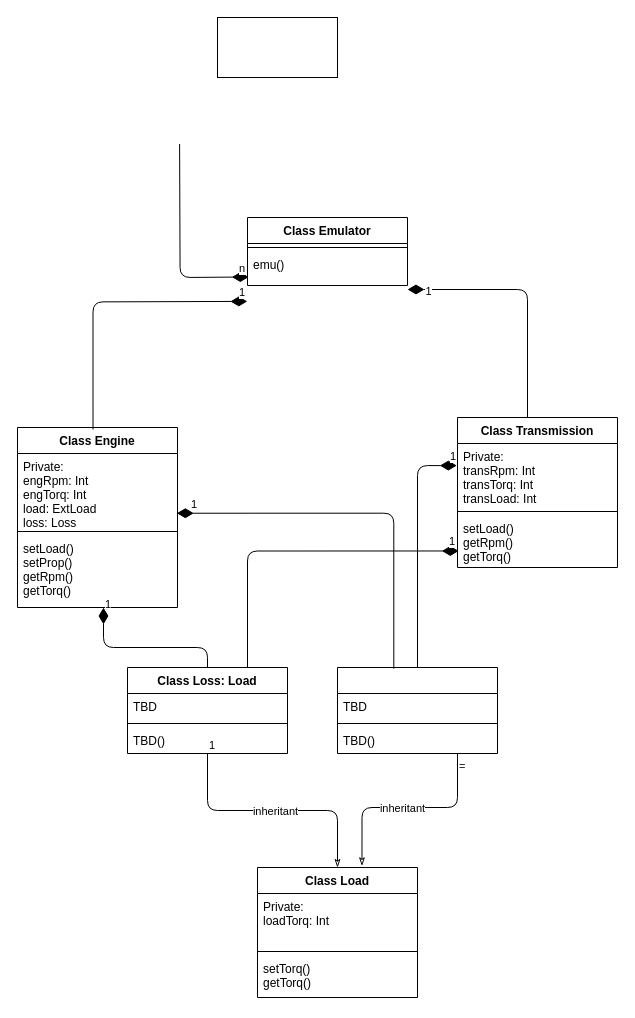
Some shapes in this 635 by 1018 pixel diagram are drawn without their labels. Each missing label, with the box of its shape:
Class ExtLoad: Load: (336, 666, 498, 754)
test: (216, 16, 338, 78)
